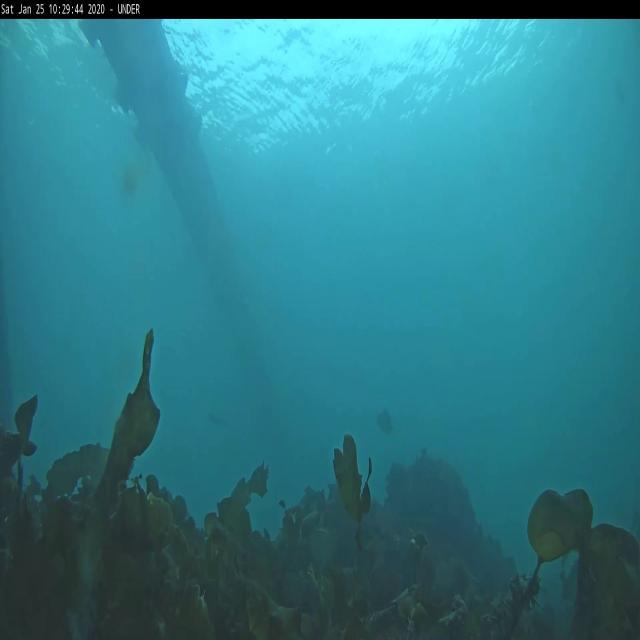fish: (208, 412, 229, 430)
